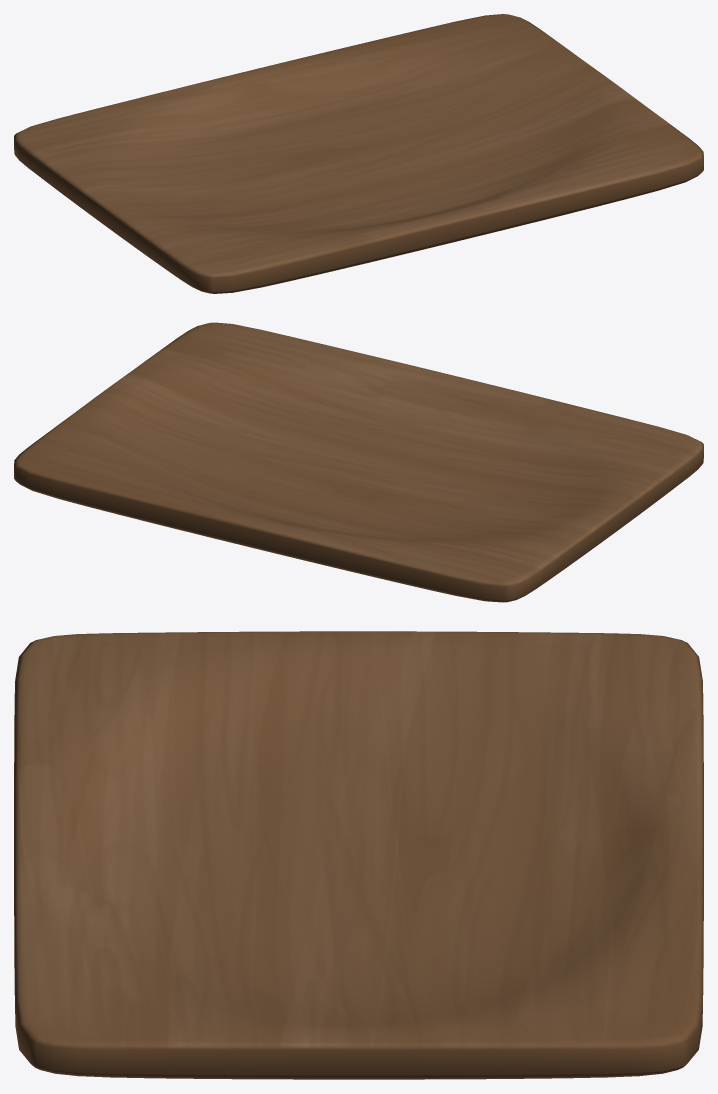
The model's file is Tray.obj.
3 views of the same model, one above another, from view 1: azimuth 30°, elevation 25°; view 2: azimuth 150°, elevation 25°; view 3: azimuth 270°, elevation 25° (orthographic). The views are drawn at different scales.
Parts seen in each view (by area): view 1: Tray_TraySG1; view 2: Tray_TraySG1; view 3: Tray_TraySG1.
Part boxes in pixels (x1,y1,x2,y2): Tray_TraySG1: [14, 14, 703, 293]; Tray_TraySG1: [14, 322, 703, 602]; Tray_TraySG1: [14, 631, 703, 1079].
Size of the model in its own units: 4.08 by 0.2803 by 2.85.
1 material, 1 textured.
